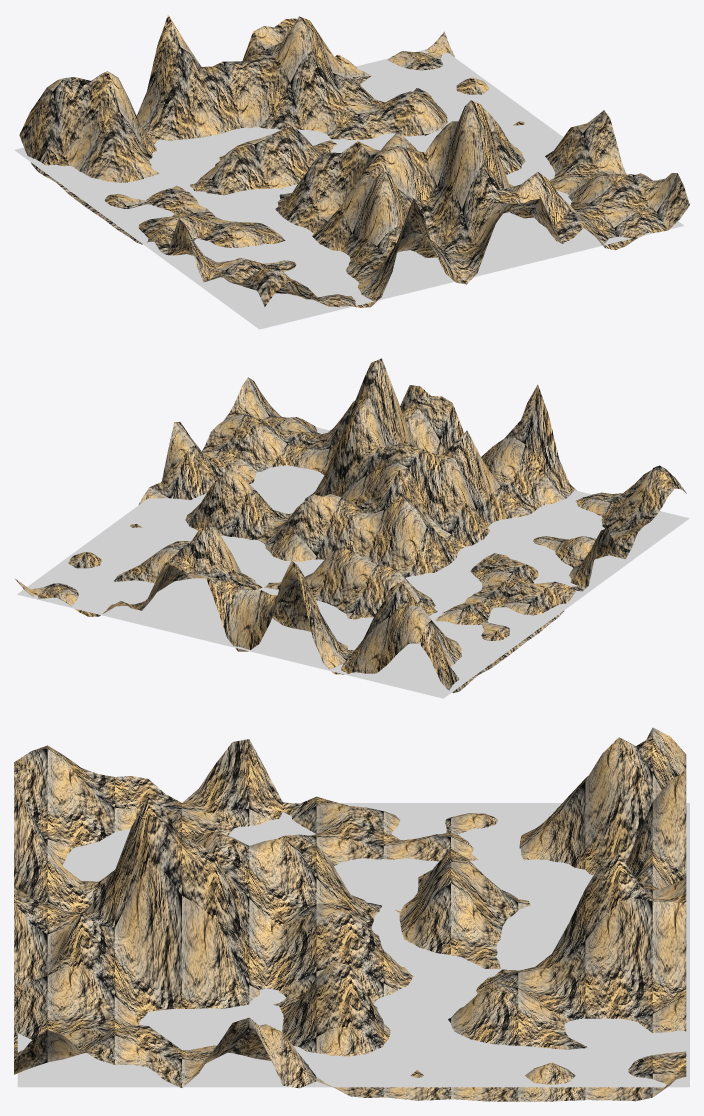
Rendered from level.FBX.
3 renders of one model, top to bottom at view 1: azimuth 30°, elevation 25°; view 2: azimuth 150°, elevation 25°; view 3: azimuth 270°, elevation 25°, orthographic. The views are drawn at different scales.
Parts seen in each view (by area): view 1: Plane001, Plane002; view 2: Plane001, Plane002; view 3: Plane001, Plane002.
Boxes of the visible parts, box(x1,y1,x2,y2) form: Plane001: box(19, 15, 689, 307); Plane002: box(14, 49, 684, 329); Plane001: box(15, 358, 686, 693); Plane002: box(17, 427, 689, 698); Plane001: box(14, 727, 686, 1101); Plane002: box(17, 803, 689, 1087).
Bounding box in the file's own units: 202 × 62.91 × 201.
